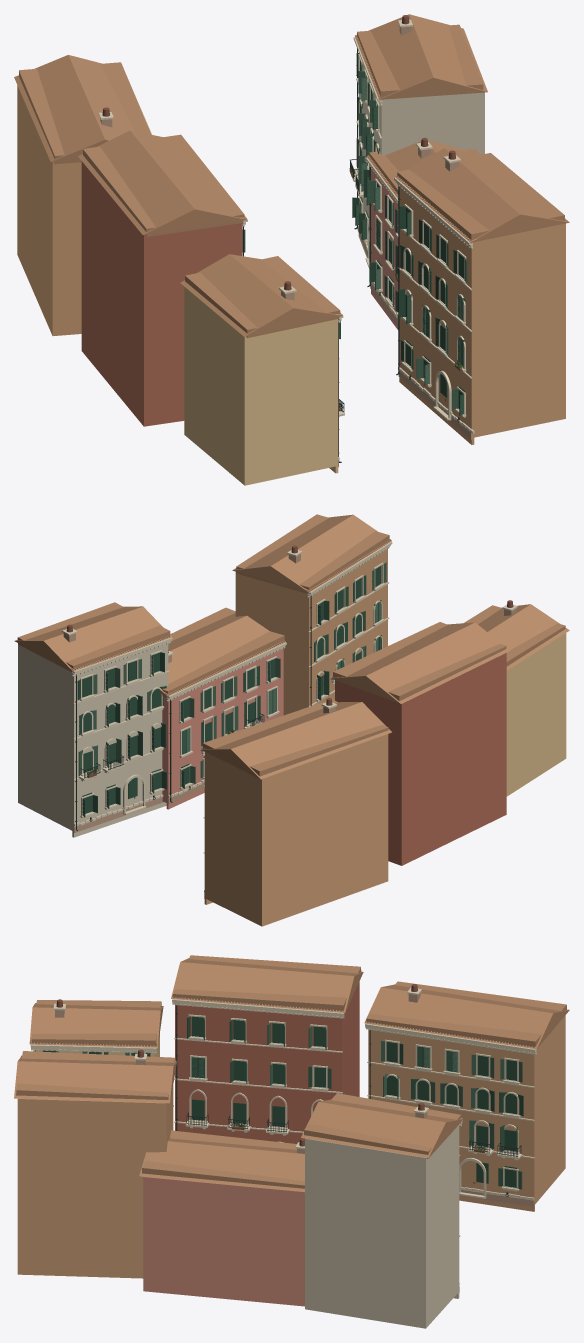
Rendered from canal-04.glb.
3 views of the same model, one above another, from view 1: azimuth 30°, elevation 25°; view 2: azimuth 150°, elevation 25°; view 3: azimuth 270°, elevation 25° (orthographic). The views are drawn at different scales.
Visible parts, largest first — view 1: Main elevations / kit:roof, Distant elevations / kit:walls:0, Main elevations / kit:walls:4, Distant elevations / kit:roof, Distant elevations / kit:walls:2, Main elevations / kit:walls:0, Main elevations / kit:walls:2, Main elevations / kit:stone, Main elevations / kit:walls:3, Main elevations / kit:green, Main elevations / kit:greenDark, Distant elevations / kit:walls:4 (+7 smaller); view 2: Main elevations / kit:walls:0, Main elevations / kit:roof, Main elevations / kit:walls:4, Main elevations / kit:walls:3, Distant elevations / kit:roof, Main elevations / kit:stone, Main elevations / kit:walls:2, Main elevations / kit:walls:1, Distant elevations / kit:greenDark, Distant elevations / kit:walls:3, Main elevations / kit:green, Distant elevations / kit:walls:0 (+7 smaller); view 3: Main elevations / kit:walls:0, Main elevations / kit:roof, Main elevations / kit:walls:3, Main elevations / kit:walls:1, Distant elevations / kit:walls:4, Distant elevations / kit:roof, Main elevations / kit:stone, Distant elevations / kit:greenDark, Distant elevations / kit:walls:0, Main elevations / kit:greenDark, Main elevations / kit:green, Near ironwork and plants / kit:iron (+2 smaller).
Boxes of the visible parts, bbox=[...] form: Main elevations / kit:roof: bbox=[14, 14, 569, 336]; Distant elevations / kit:walls:0: bbox=[55, 162, 562, 437]; Main elevations / kit:walls:4: bbox=[81, 161, 191, 426]; Distant elevations / kit:roof: bbox=[19, 24, 564, 337]; Distant elevations / kit:walls:2: bbox=[247, 319, 337, 484]; Main elevations / kit:walls:0: bbox=[17, 85, 565, 444]; Main elevations / kit:walls:2: bbox=[184, 287, 338, 485]; Main elevations / kit:stone: bbox=[98, 19, 474, 460]; Main elevations / kit:walls:3: bbox=[358, 66, 484, 257]; Main elevations / kit:green: bbox=[356, 63, 467, 409]; Main elevations / kit:greenDark: bbox=[242, 53, 464, 415]; Distant elevations / kit:walls:4: bbox=[191, 223, 242, 273]; Main elevations / kit:walls:0: bbox=[204, 550, 388, 926]; Main elevations / kit:roof: bbox=[14, 514, 569, 779]; Main elevations / kit:walls:4: bbox=[335, 653, 506, 865]; Main elevations / kit:walls:3: bbox=[18, 644, 166, 837]; Distant elevations / kit:roof: bbox=[17, 514, 565, 776]; Main elevations / kit:stone: bbox=[62, 542, 517, 892]; Main elevations / kit:walls:2: bbox=[506, 633, 566, 796]; Main elevations / kit:walls:1: bbox=[166, 648, 283, 809]; Distant elevations / kit:greenDark: bbox=[82, 566, 381, 813]; Distant elevations / kit:walls:3: bbox=[74, 644, 168, 826]; Main elevations / kit:green: bbox=[78, 562, 386, 793]; Distant elevations / kit:walls:0: bbox=[205, 548, 387, 898]; Main elevations / kit:walls:0: bbox=[17, 1015, 565, 1278]; Main elevations / kit:roof: bbox=[14, 958, 569, 1191]; Main elevations / kit:walls:3: bbox=[305, 1125, 459, 1328]; Main elevations / kit:walls:1: bbox=[143, 1176, 304, 1306]; Distant elevations / kit:walls:4: bbox=[175, 982, 359, 1143]; Distant elevations / kit:roof: bbox=[16, 955, 566, 1188]; Main elevations / kit:stone: bbox=[30, 988, 536, 1284]; Distant elevations / kit:greenDark: bbox=[44, 1016, 516, 1187]; Distant elevations / kit:walls:0: bbox=[368, 1029, 535, 1204]; Main elevations / kit:greenDark: bbox=[42, 1016, 523, 1186]; Main elevations / kit:green: bbox=[57, 1023, 522, 1189]; Near ironwork and plants / kit:iron: bbox=[35, 1005, 521, 1196].
Bounding box in the file's own units: 40.37 × 19.94 × 47.7.
